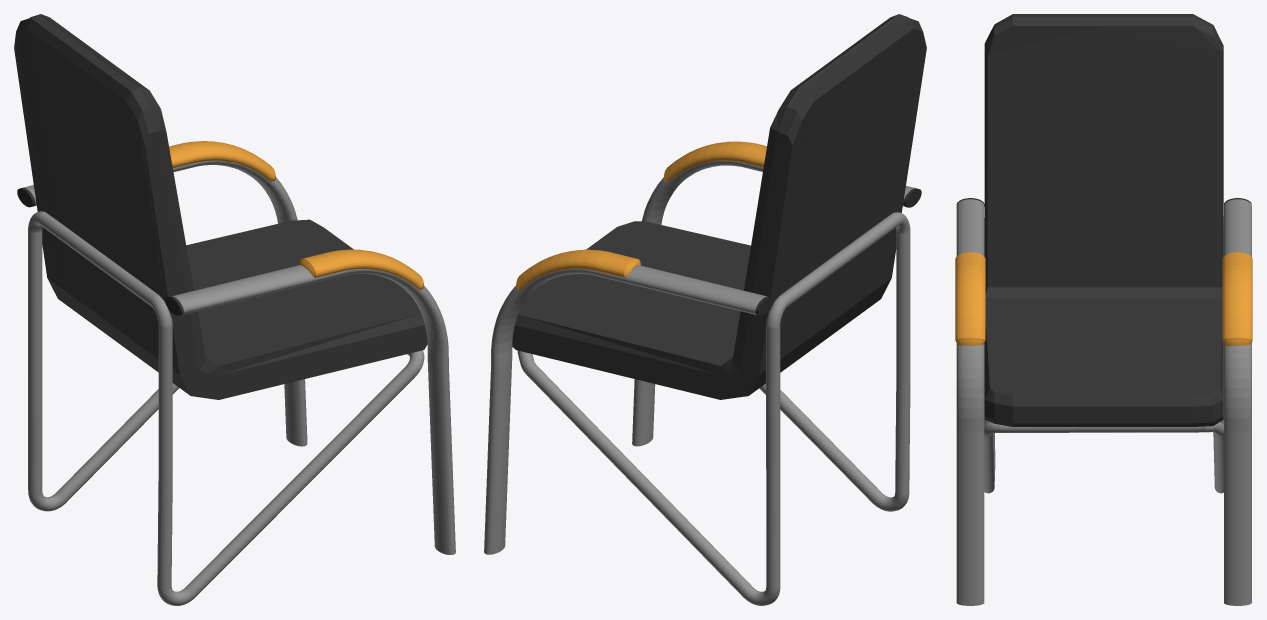
Rendered from lectorium_chair_visual_dark.dae.
3 renders of one model, left to right at view 1: azimuth 30°, elevation 25°; view 2: azimuth 150°, elevation 25°; view 3: azimuth 270°, elevation 25°, orthographic. The views are drawn at different scales.
Visible parts, largest first — view 1: Cube_005; view 2: Cube_005; view 3: Cube_005.
Boxes of the visible parts, x1,y1,x2,y2 form: Cube_005: (14, 14, 455, 605); Cube_005: (484, 14, 926, 605); Cube_005: (955, 14, 1252, 605).
Bounding box in the file's own units: 43.49 × 40.96 × 70.38.
